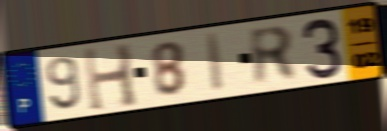3: (299, 15, 342, 81)
8: (149, 39, 189, 100)
9: (44, 54, 83, 112)
H: (81, 42, 141, 115)
I: (204, 30, 227, 94)
R: (246, 23, 302, 88)
